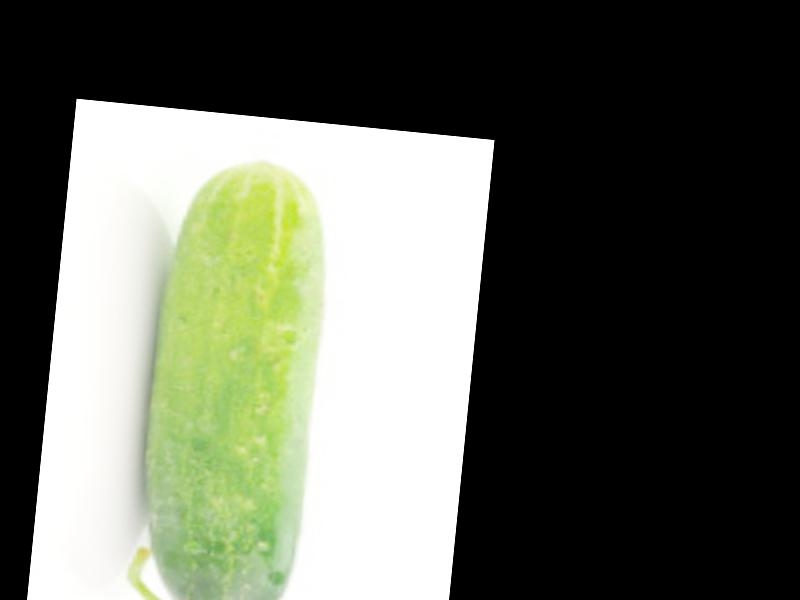Cucumber: (122, 147, 337, 600)
